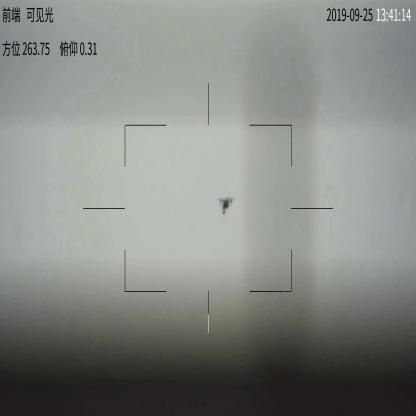uav: (219, 195, 237, 213)
